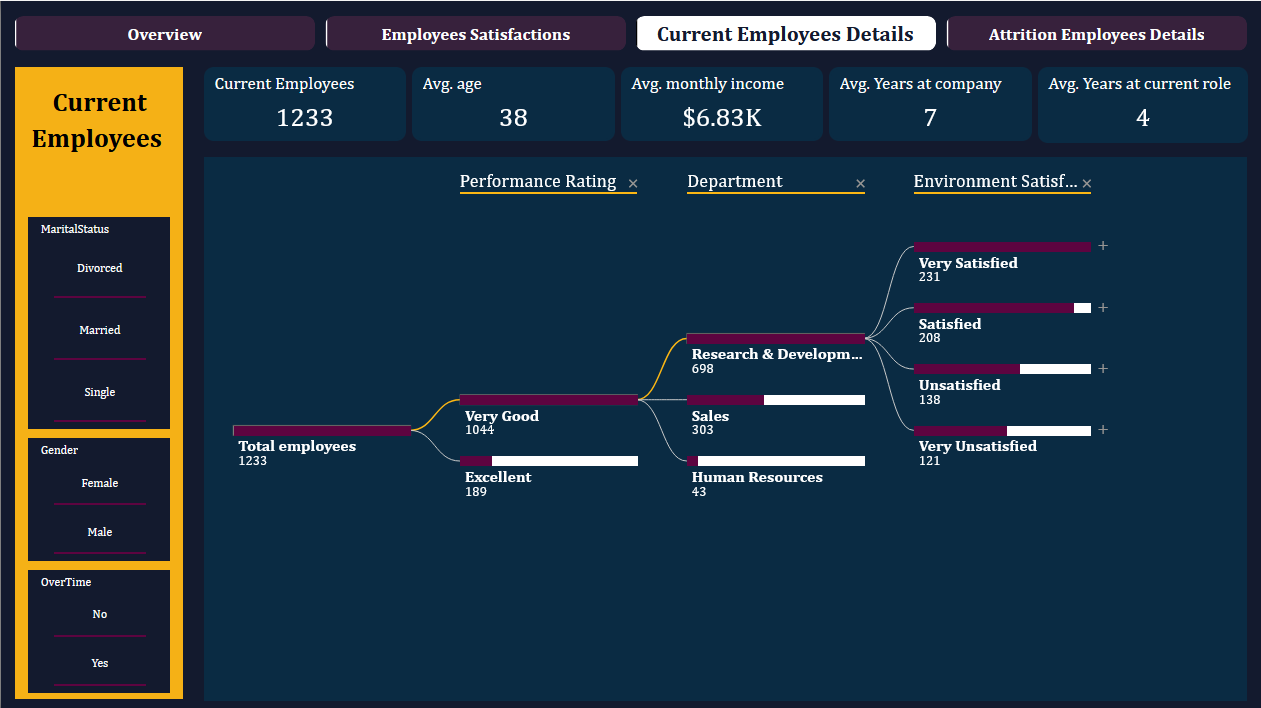

What the dashboard file says about the page in this screenshot:
{"tool":"powerbi","page":{"name":"Current Employees Details","canvas":[1280,720],"ordinal":2},"visuals":[{"type":"shape","box":[13,66.7,170.8,639.2],"z":0},{"type":"slicer","fields":{"Values":["HR-Employee-Attrition.MaritalStatus"]},"box":[27.7,218,143.1,214.7],"z":3000},{"type":"card","title":"Current Employees","fields":{"Values":["_Measures.Current Employees"]},"box":[204.9,67.4,204.9,74.8],"z":4000},{"type":"card","title":"Avg. monthly income","fields":{"Values":["_Measures.Avg. monthly income"]},"box":[626,67.4,205,75],"z":5000},{"type":"card","title":"Avg. Years at company","fields":{"Values":["_Measures.Avg. Years at company"]},"box":[836.6,67.4,205,75],"z":6000},{"type":"card","title":"Avg. Years at current role","fields":{"Values":["_Measures.Avg. Years at current role"]},"box":[1047.5,66.7,213.1,76.4],"z":7000},{"type":"card","title":"Avg. age","fields":{"Values":["_Measures.Avg. age"]},"box":[415.5,67.4,205,75],"z":8000},{"type":"textbox","box":[14.6,79.7,169.2,43.9],"z":9000},{"type":"textbox","box":[14.6,117.1,169.2,52],"z":10000},{"type":"pageNavigator","box":[13.6,14.5,1248.2,35.5],"z":11000},{"type":"decompositionTreeVisual","fields":{"ExplainBy":["HR-Employee-Attrition.Performance Rating ","HR-Employee-Attrition.YearsAtCompany","HR-Employee-Attrition.Relationship Satisfaction","HR-Employee-Attrition.WorkLife Balance ","HR-Employee-Attrition.EducationField","HR-Employee-Attrition.Job Involvment","HR-Employee-Attrition.Environment Satisfaction ","HR-Employee-Attrition.Distance from home","HR-Employee-Attrition.Job Satisfaction","HR-Employee-Attrition.JobRole","HR-Employee-Attrition.Department","HR-Employee-Attrition.Age Group"],"Analyze":["_Measures.Total emplyees"]},"box":[204.9,157.8,1055.6,549.8],"z":12001},{"type":"slicer","fields":{"Values":["HR-Employee-Attrition.Gender"]},"box":[27.7,440.9,143.1,125.2],"z":12002},{"type":"slicer","fields":{"Values":["HR-Employee-Attrition.OverTime"]},"box":[27.2,574.4,143.2,124.6],"z":12003}]}

Visuals, with their boxes in screenshot pixels (x1, y1, x2, y2), scaled from the page's 1280x720 canvas onto the 1261x708 screenshot:
shape: bbox(13, 66, 181, 694)
slicer - HR-Employee-Attrition.MaritalStatus: bbox(27, 214, 168, 425)
"Current Employees" card: bbox(202, 66, 404, 140)
"Avg. monthly income" card: bbox(617, 66, 819, 140)
"Avg. Years at company" card: bbox(824, 66, 1026, 140)
"Avg. Years at current role" card: bbox(1032, 66, 1242, 141)
"Avg. age" card: bbox(409, 66, 611, 140)
textbox: bbox(14, 78, 181, 122)
textbox: bbox(14, 115, 181, 166)
pageNavigator: bbox(13, 14, 1243, 49)
decompositionTreeVisual - HR-Employee-Attrition.Performance Rating  x HR-Employee-Attrition.YearsAtCompany: bbox(202, 155, 1242, 696)
slicer - HR-Employee-Attrition.Gender: bbox(27, 434, 168, 557)
slicer - HR-Employee-Attrition.OverTime: bbox(27, 565, 168, 687)
